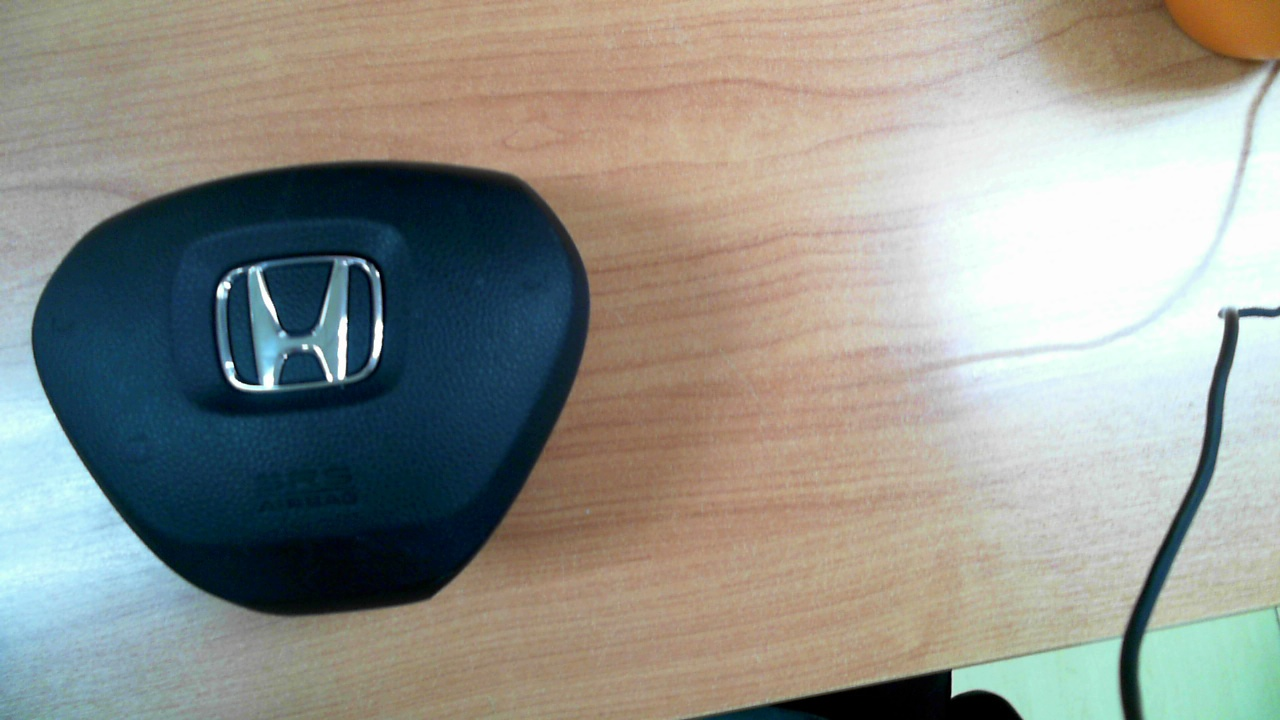Airbag: (30, 159, 591, 617)
Honda: (216, 254, 385, 392)
